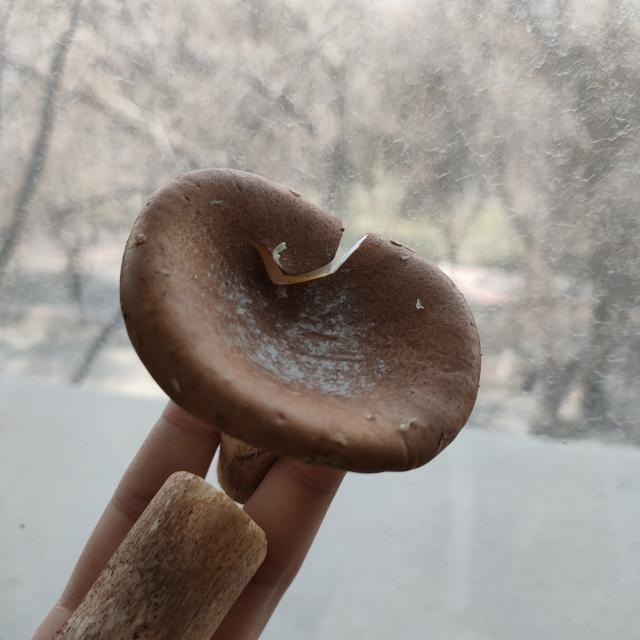Clitocybe maxima: (52, 164, 479, 640)
